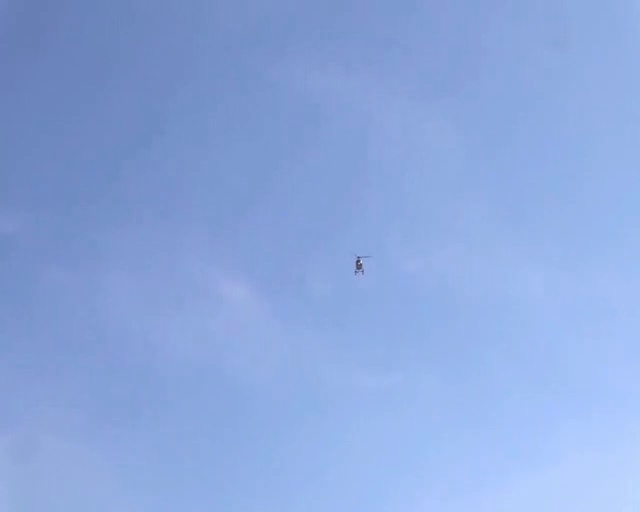HELICOPTER: (354, 253, 372, 275)
